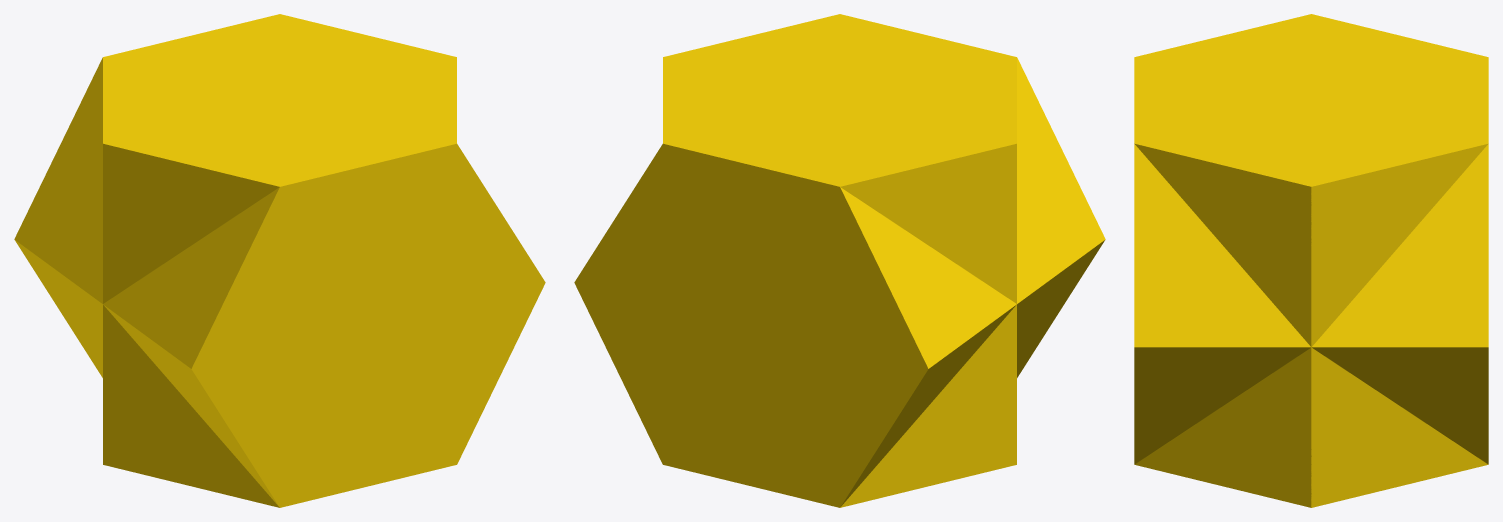
The model's file is meteor.glb.
3 renders of one model, left to right at view 1: azimuth 30°, elevation 25°; view 2: azimuth 150°, elevation 25°; view 3: azimuth 270°, elevation 25°, orthographic.
Parts seen in each view (by area): view 1: cylinder (×2); view 2: cylinder (×2); view 3: cylinder (×2).
Part boxes in pixels (x1,y1,x2,y2): cylinder (×2): (14, 14, 545, 507); cylinder (×2): (574, 14, 1105, 507); cylinder (×2): (1134, 14, 1488, 507).
Size of the model in its own units: 1.15 by 1 by 1.
2 materials, 2 textured.
